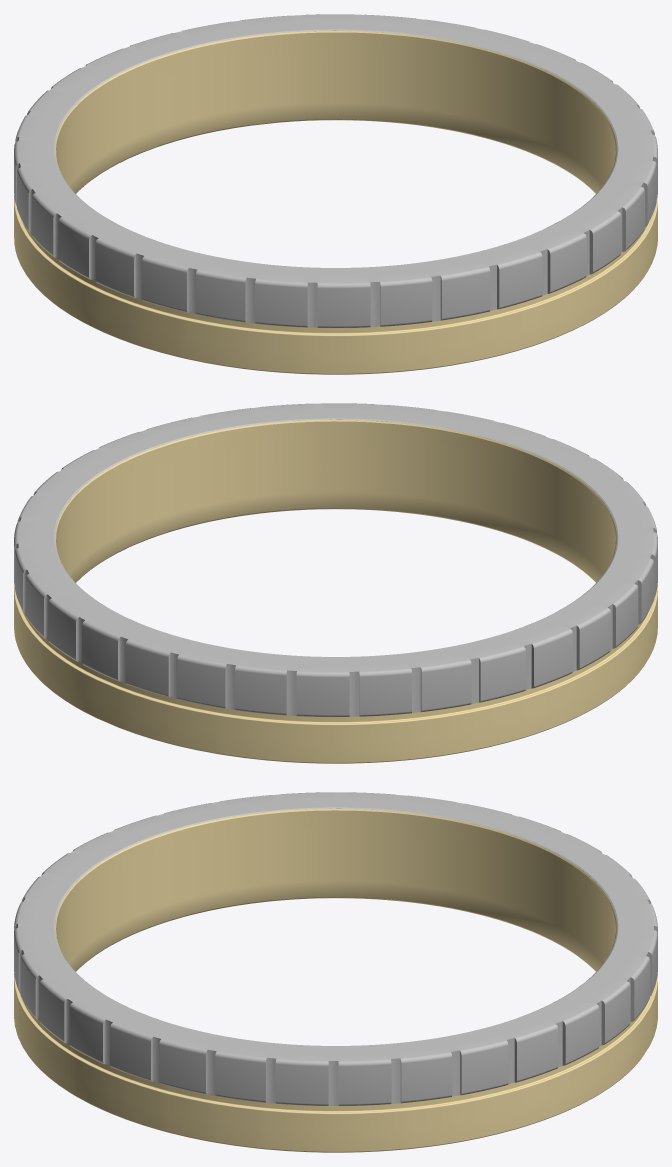
3 views of the same model, one above another, from view 1: azimuth 30°, elevation 25°; view 2: azimuth 150°, elevation 25°; view 3: azimuth 270°, elevation 25° (orthographic).
Visible parts, largest first — view 1: Finishing_Metal, Engraving_Metal, Base_Metal; view 2: Finishing_Metal, Engraving_Metal, Base_Metal; view 3: Finishing_Metal, Engraving_Metal, Base_Metal.
Boxes of the visible parts, x1,y1,x2,y2 form: Finishing_Metal: [14, 14, 657, 327]; Engraving_Metal: [55, 31, 616, 223]; Base_Metal: [14, 119, 657, 374]; Finishing_Metal: [14, 403, 657, 716]; Engraving_Metal: [55, 419, 616, 620]; Base_Metal: [14, 508, 657, 763]; Finishing_Metal: [14, 792, 657, 1105]; Engraving_Metal: [55, 808, 616, 1008]; Base_Metal: [14, 897, 657, 1152].
Bounding box in the file's own units: 1.91 × 0.2971 × 1.91.
